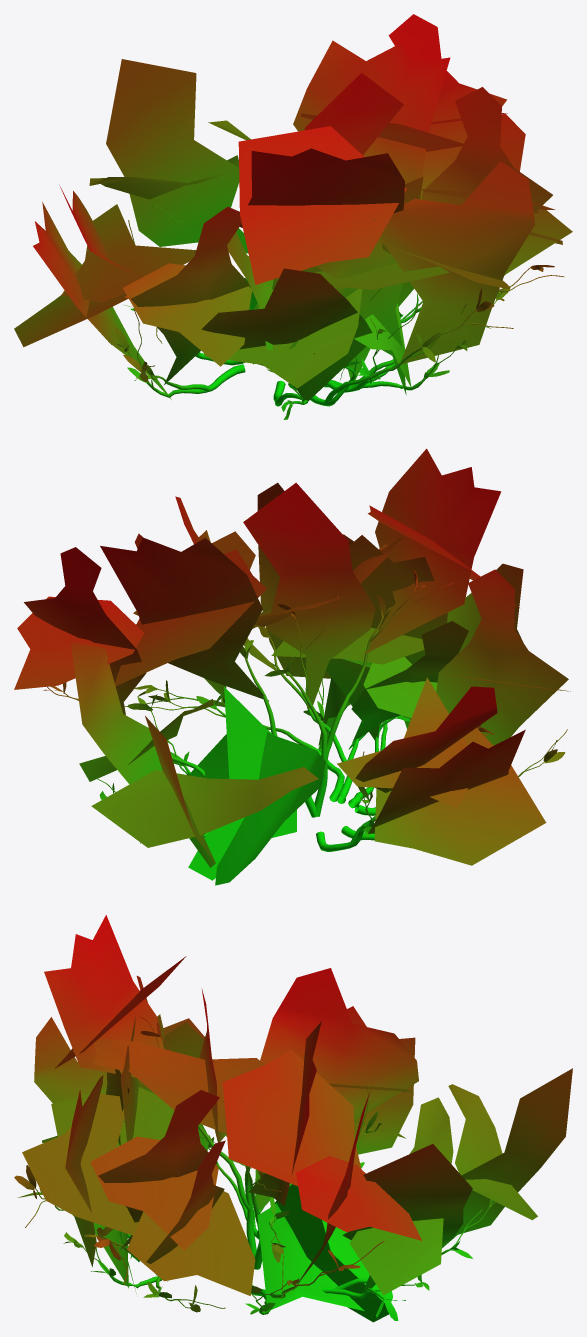
File: Downy Willow_LOD3_Var4_wknlfiuqx.fbx
The picture shows the model from 3 angles, top to bottom: view 1: azimuth 30°, elevation 25°; view 2: azimuth 150°, elevation 25°; view 3: azimuth 270°, elevation 25°; orthographic projection.
Visible parts, largest first — view 1: _dqaw_Var4_LOD3; view 2: _dqaw_Var4_LOD3; view 3: _dqaw_Var4_LOD3.
Boxes of the visible parts, x1,y1,x2,y2 form: _dqaw_Var4_LOD3: (14, 14, 572, 419); _dqaw_Var4_LOD3: (14, 448, 570, 885); _dqaw_Var4_LOD3: (14, 915, 572, 1322).
Size of the model in its own units: 131 by 83.4 by 125.
